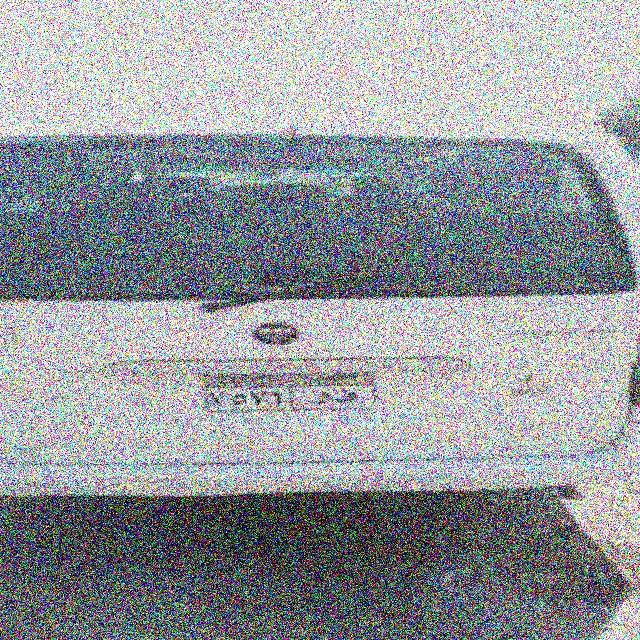License Plate: (200, 371, 381, 415)
